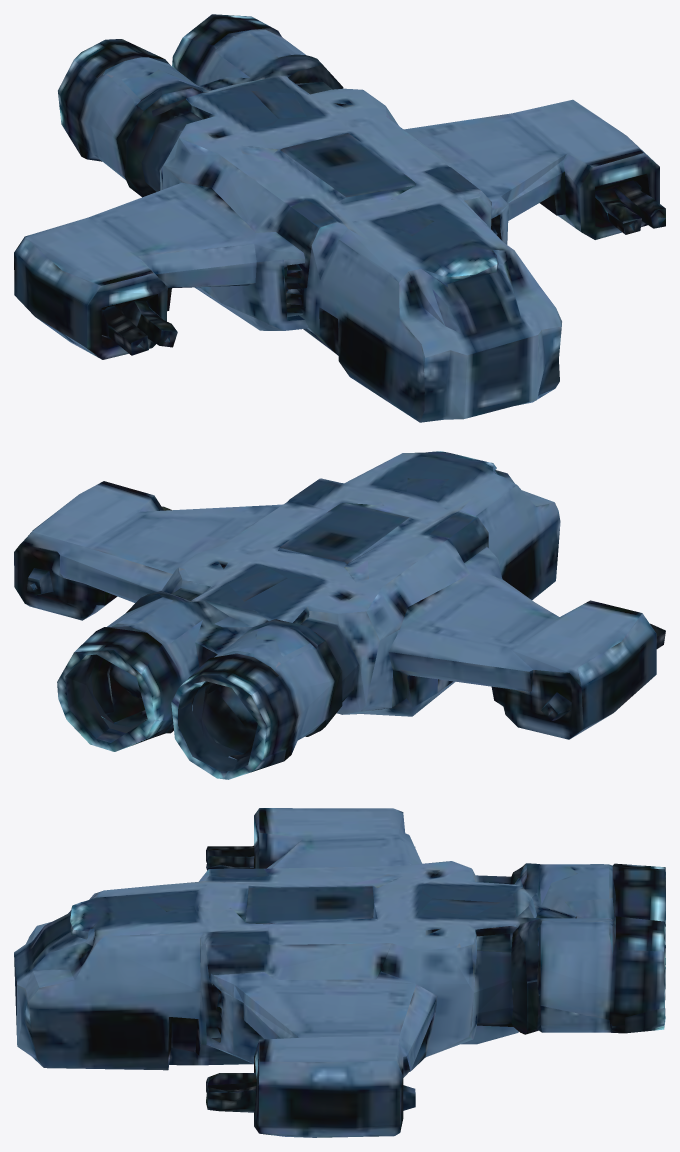
The model's file is enemy-heavy-s5.glb.
The picture shows the model from 3 angles, top to bottom: view 1: azimuth 30°, elevation 25°; view 2: azimuth 150°, elevation 25°; view 3: azimuth 270°, elevation 25°; orthographic projection. The views are drawn at different scales.
Visible parts, largest first — view 1: 9adbb147-c497-479b-8c6b-6f7a91005b4a_texturing.obj; view 2: 9adbb147-c497-479b-8c6b-6f7a91005b4a_texturing.obj; view 3: 9adbb147-c497-479b-8c6b-6f7a91005b4a_texturing.obj.
Part boxes in pixels (box(x1,y1,x2,y2)): 9adbb147-c497-479b-8c6b-6f7a91005b4a_texturing.obj: box(14, 14, 665, 422); 9adbb147-c497-479b-8c6b-6f7a91005b4a_texturing.obj: box(14, 451, 665, 779); 9adbb147-c497-479b-8c6b-6f7a91005b4a_texturing.obj: box(14, 808, 665, 1137).
Size of the model in its own units: 1.99 by 0.486 by 1.99.
1 material, 1 textured.
